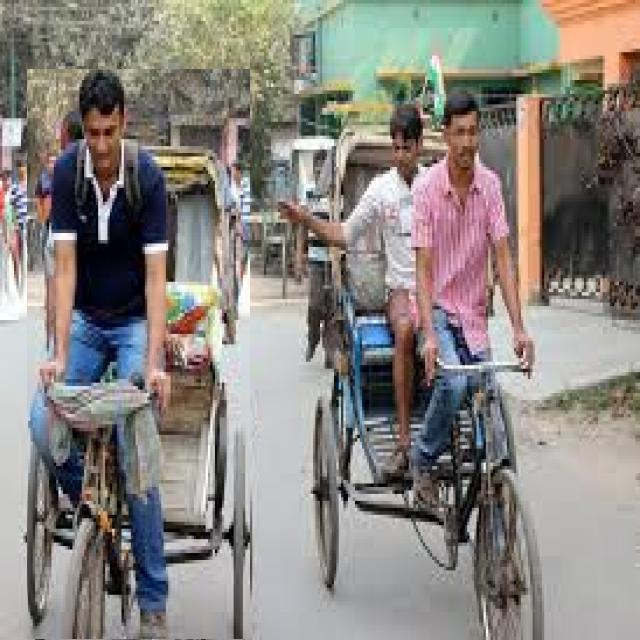bicycle: (281, 87, 541, 638), (28, 69, 250, 639)
